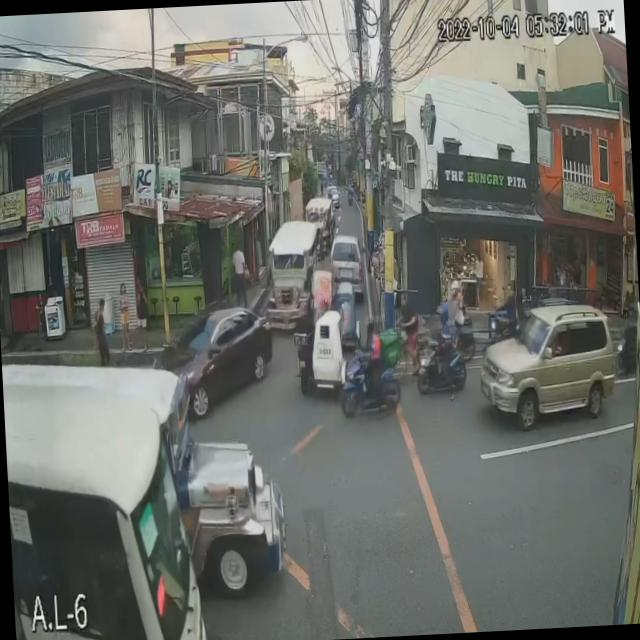half: (436, 301, 450, 328), (363, 318, 376, 336)
